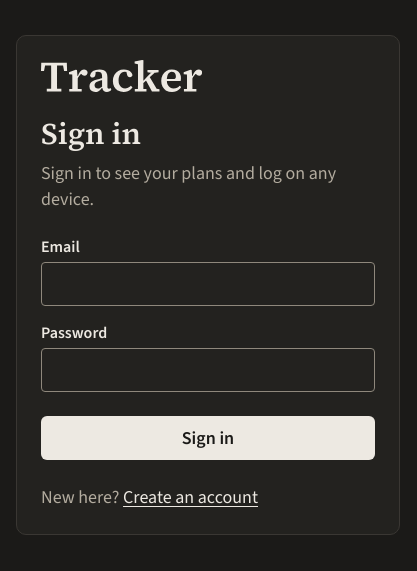
Test: signing in › explains a busy server
In the password field with id "login-password": x=208, y=370 [41, 348, 375, 392], type "correct horse battery"
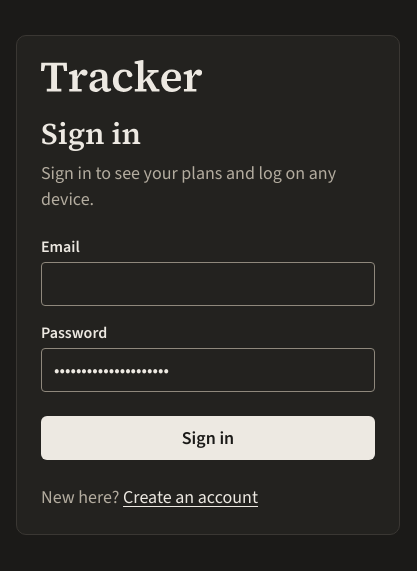
Submit the form, box [41, 236, 375, 460]
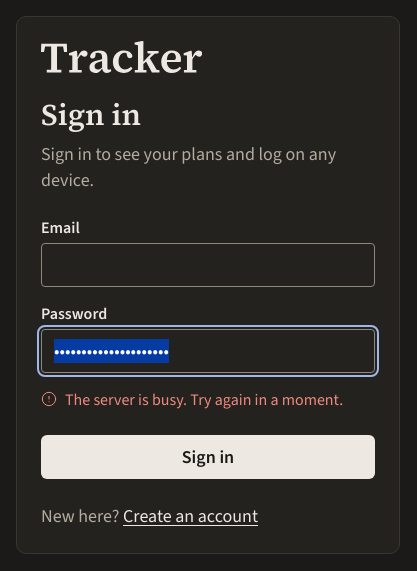
Check: the heading "Sign in" is shown, box [41, 94, 141, 135]
Check: the message with test id "login-problem" reads "The server is busy. Try again in a moment.", box [65, 389, 343, 410]
